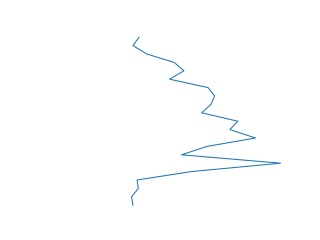floodSwamp: (126, 36, 284, 206)
